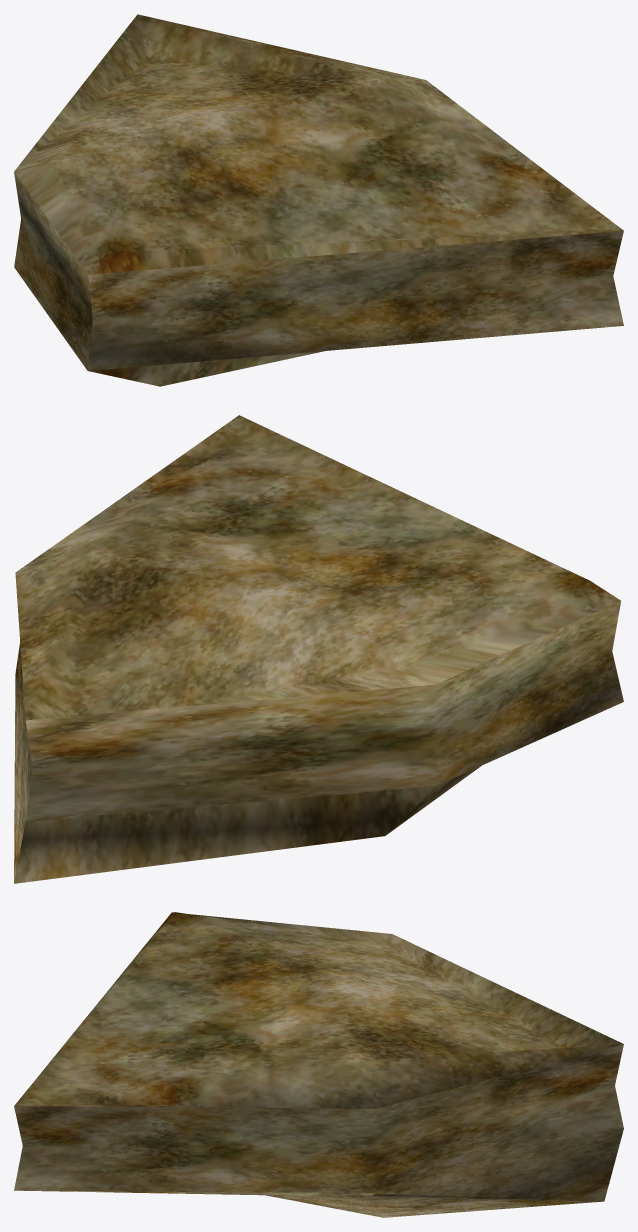
File: TROLLHOLE02_RM_FALL_ROCK07.fbx
3 renders of one model, top to bottom at view 1: azimuth 30°, elevation 25°; view 2: azimuth 150°, elevation 25°; view 3: azimuth 270°, elevation 25°, orthographic. The views are drawn at different scales.
Parts seen in each view (by area): view 1: TROLLHOLE02_RM_FALL_ROCK07; view 2: TROLLHOLE02_RM_FALL_ROCK07; view 3: TROLLHOLE02_RM_FALL_ROCK07.
Part boxes in pixels (x1,y1,x2,y2): TROLLHOLE02_RM_FALL_ROCK07: (14,14,623,386); TROLLHOLE02_RM_FALL_ROCK07: (14,415,623,883); TROLLHOLE02_RM_FALL_ROCK07: (14,912,623,1217).
Bounding box in the file's own units: 14999 × 7542 × 19626.
Materials: 1 (1 with a texture image).
